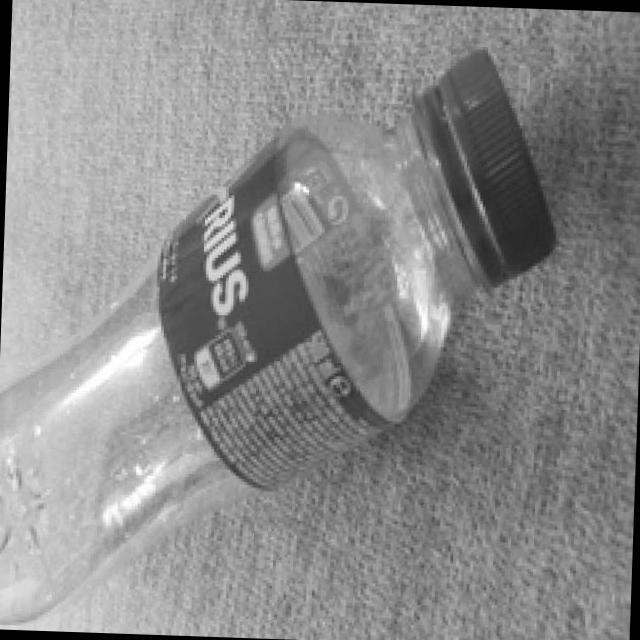good: (0, 25, 581, 632)
